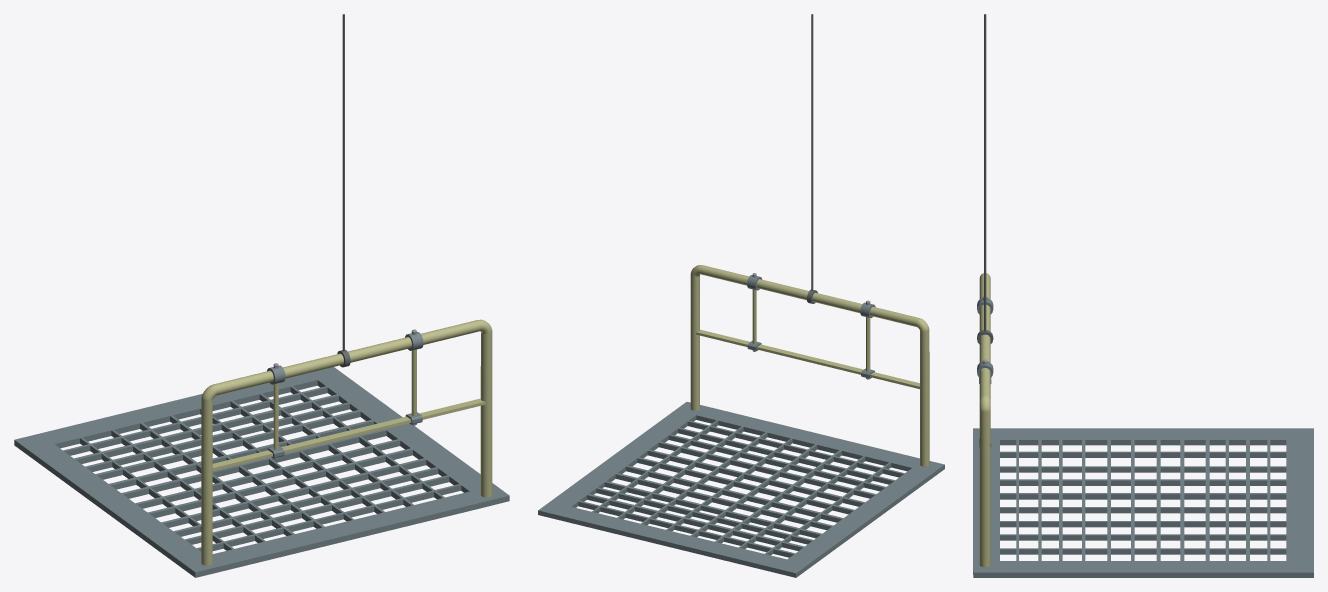
Rendered from Floating_Walkway_Tformation.fbx.
3 views of the same model, side by side, from view 1: azimuth 30°, elevation 25°; view 2: azimuth 150°, elevation 25°; view 3: azimuth 270°, elevation 25° (orthographic). The views are drawn at different scales.
Visible parts, largest first — view 1: pCylinder47, pCylinder59; view 2: pCylinder47, pCylinder59; view 3: pCylinder47, pCylinder59.
Part boxes in pixels (bbox=[...]): pCylinder47: bbox=[14, 319, 509, 577]; pCylinder59: bbox=[342, 14, 344, 351]; pCylinder47: bbox=[538, 265, 944, 577]; pCylinder59: bbox=[811, 14, 813, 290]; pCylinder47: bbox=[973, 273, 1313, 577]; pCylinder59: bbox=[984, 14, 986, 331].
Bounding box in the file's own units: 1.31 × 2.08 × 1.31.
